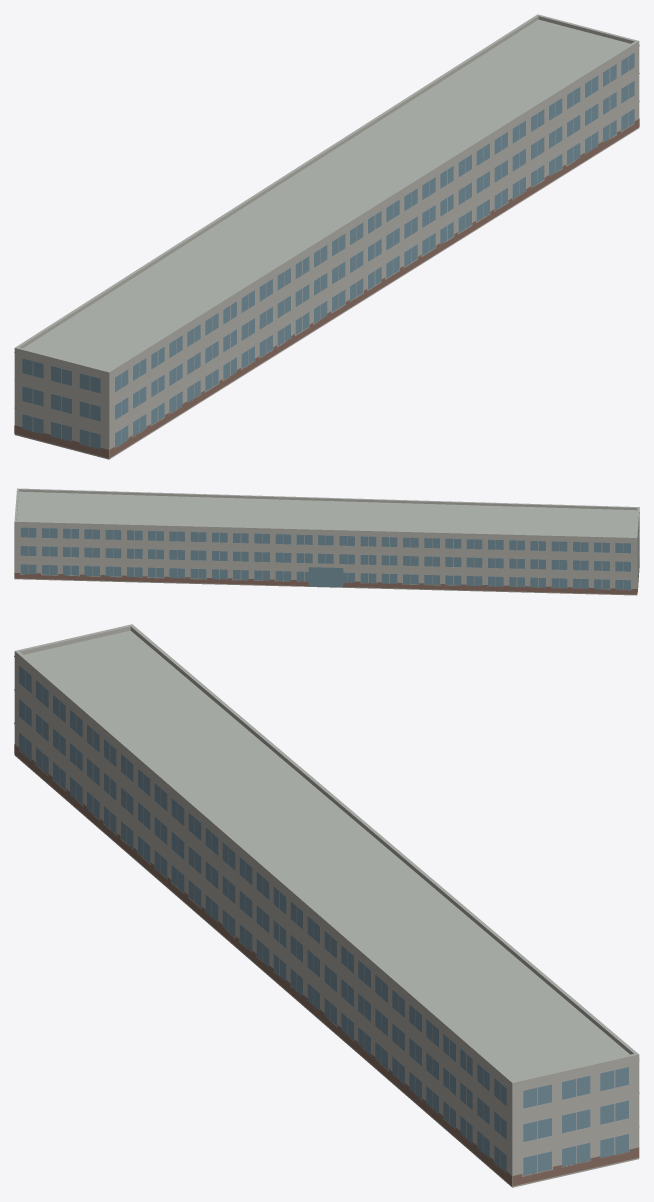
Rendered from public-f320dce2-7e96-4c5f-a036-a39d0894e095.glb.
The picture shows the model from 3 angles, top to bottom: view 1: azimuth 30°, elevation 25°; view 2: azimuth 150°, elevation 25°; view 3: azimuth 270°, elevation 25°; orthographic projection. The views are drawn at different scales.
Parts seen in each view (by area): view 1: public-f320dce2-7e96-4c5f-a036-a39d0894e095; view 2: public-f320dce2-7e96-4c5f-a036-a39d0894e095; view 3: public-f320dce2-7e96-4c5f-a036-a39d0894e095.
Part boxes in pixels (left/top/right/bottom): public-f320dce2-7e96-4c5f-a036-a39d0894e095: left=14, top=14, right=639, bottom=459; public-f320dce2-7e96-4c5f-a036-a39d0894e095: left=14, top=488, right=639, bottom=595; public-f320dce2-7e96-4c5f-a036-a39d0894e095: left=14, top=624, right=639, bottom=1187.
Size of the model in its own units: 86.12 by 9.15 by 49.57.
